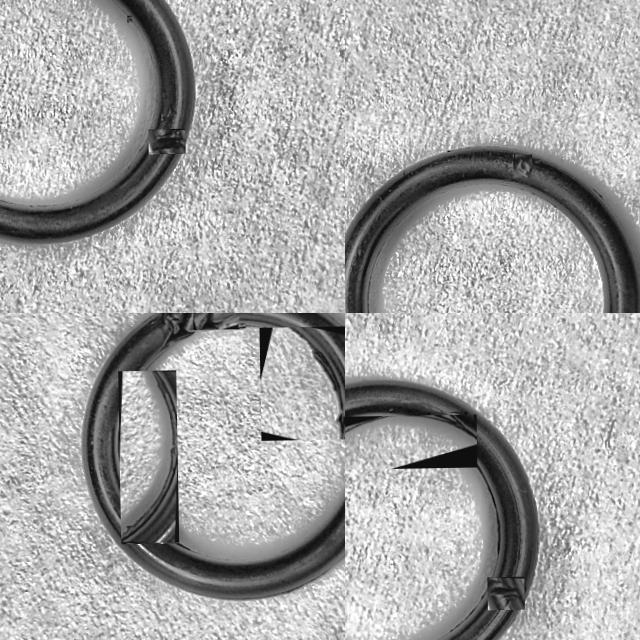切割缺陷: (145, 313, 197, 354), (430, 412, 465, 448), (487, 577, 523, 609), (149, 130, 184, 153), (196, 313, 239, 329), (514, 154, 532, 178)
裂纹: (121, 372, 177, 541), (289, 327, 345, 439), (345, 415, 476, 440), (478, 468, 500, 552), (223, 323, 244, 328), (127, 16, 132, 21)
